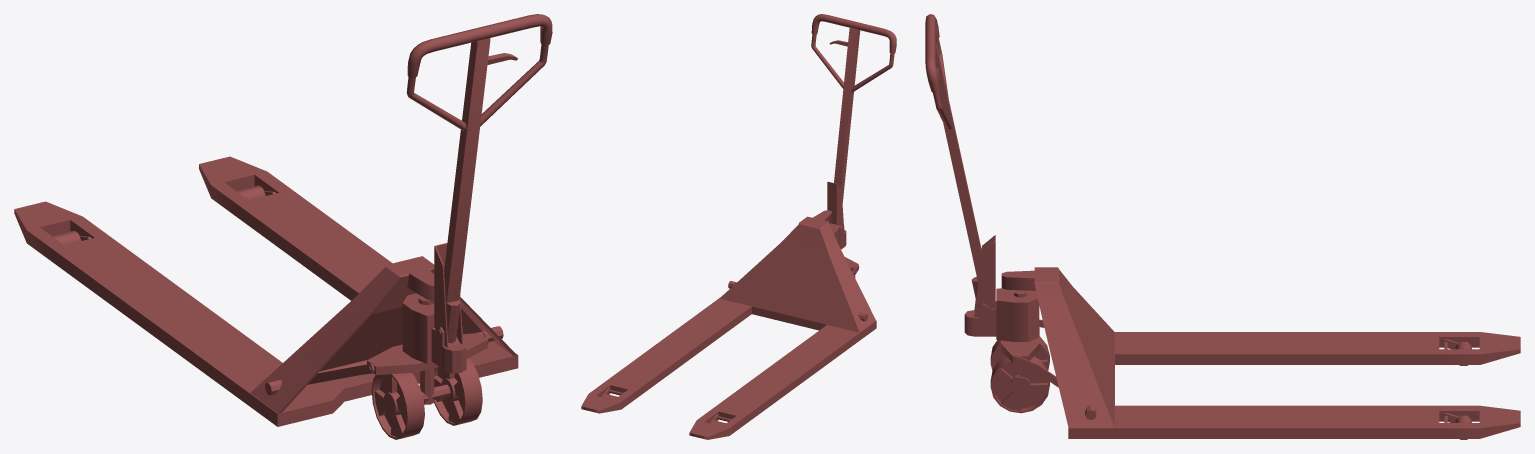
The model's file is Qianjinding.fbx.
3 renders of one model, left to right at view 1: azimuth 30°, elevation 25°; view 2: azimuth 150°, elevation 25°; view 3: azimuth 270°, elevation 25°, orthographic. The views are drawn at different scales.
Parts seen in each view (by area): view 1: Qianjinding; view 2: Qianjinding; view 3: Qianjinding.
Part boxes in pixels (box(x1,y1,x2,y2)): Qianjinding: box(14, 14, 552, 439); Qianjinding: box(581, 14, 896, 439); Qianjinding: box(925, 14, 1520, 439).
Bounding box in the file's own units: 68.53 × 120 × 179.
